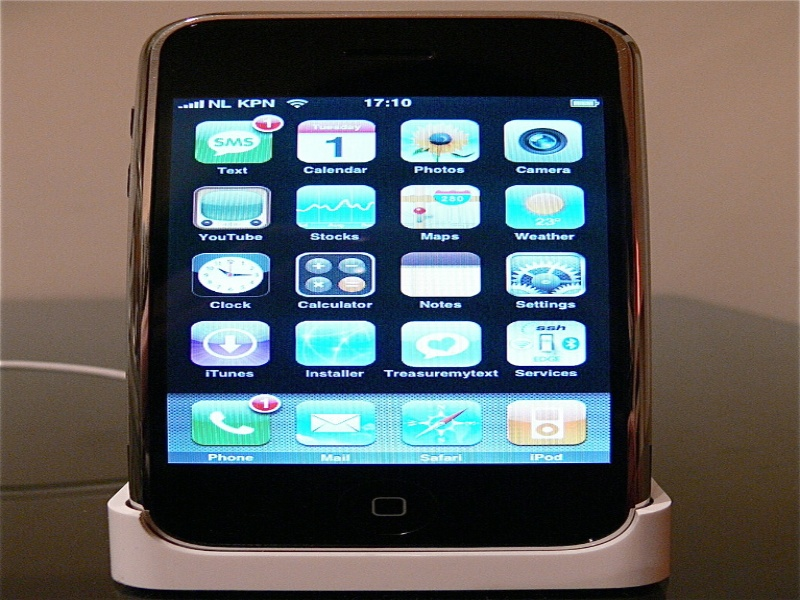cellphone: (135, 13, 657, 565)
